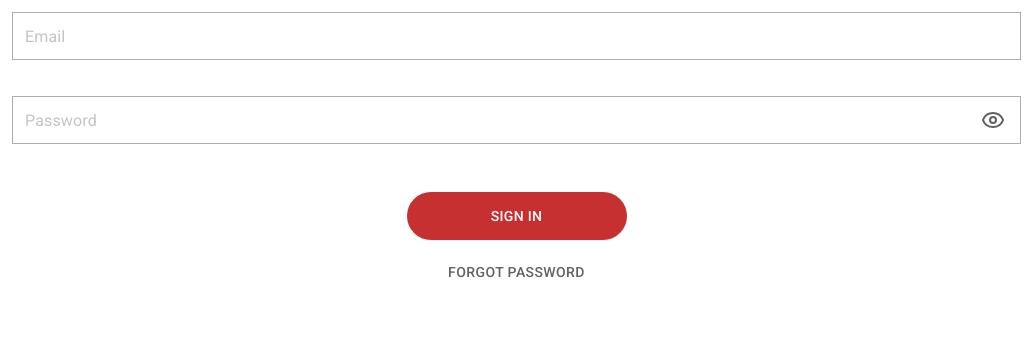
Test: LoginForm Component › should display a backend error when server action returns an error
In the field with placeholder "Email": (516, 36) top-left (12, 12), bottom-right (1021, 60), type "wrong@example.com"
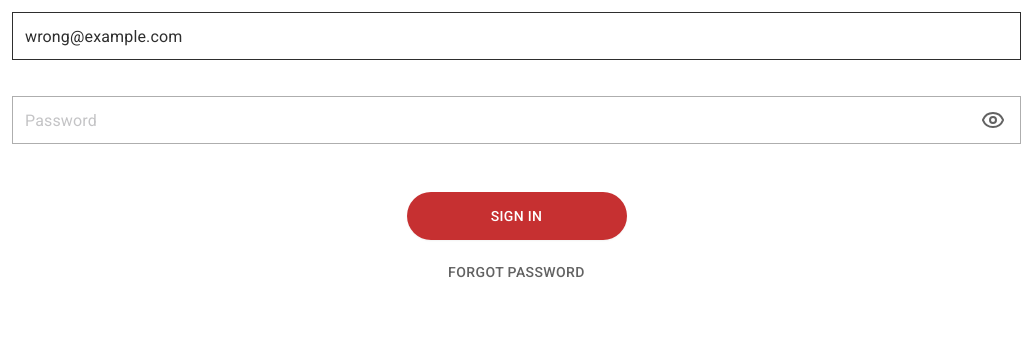
In the password field with placeholder "Password": (516, 120) top-left (12, 96), bottom-right (1021, 144), type "wrongpassword"
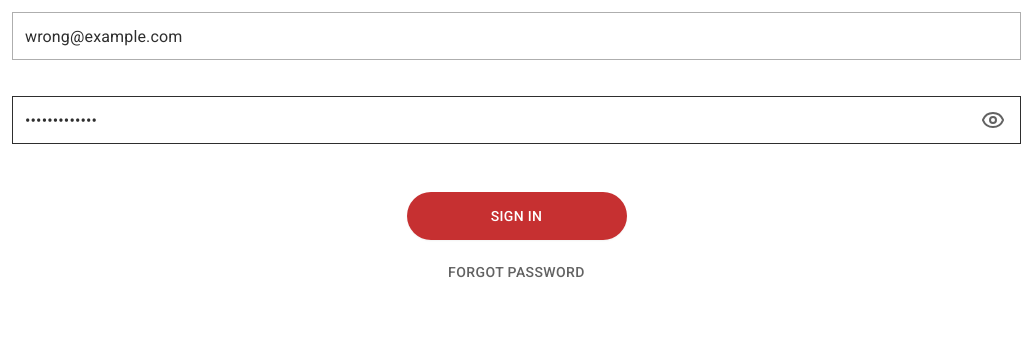
Click the button "SIGN IN": (516, 216) top-left (406, 192), bottom-right (626, 240)
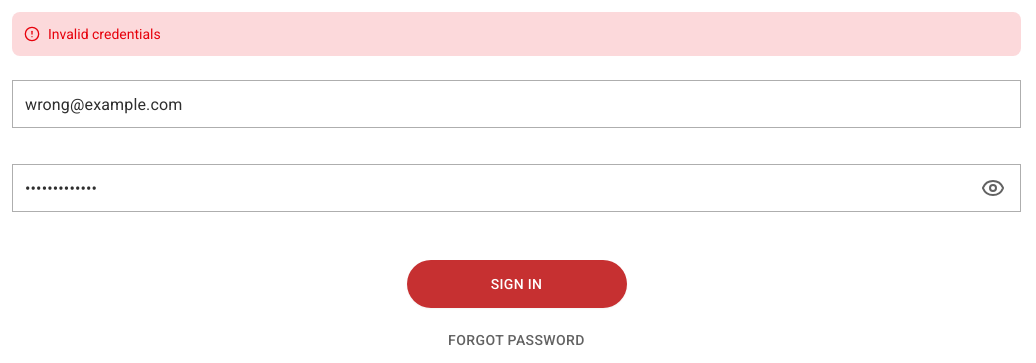
Result: the text "Invalid credentials" is shown at top-left (48, 24), bottom-right (161, 44)
